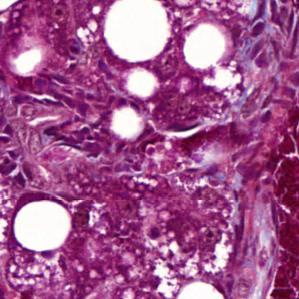steatosis: (15, 198, 73, 256)
